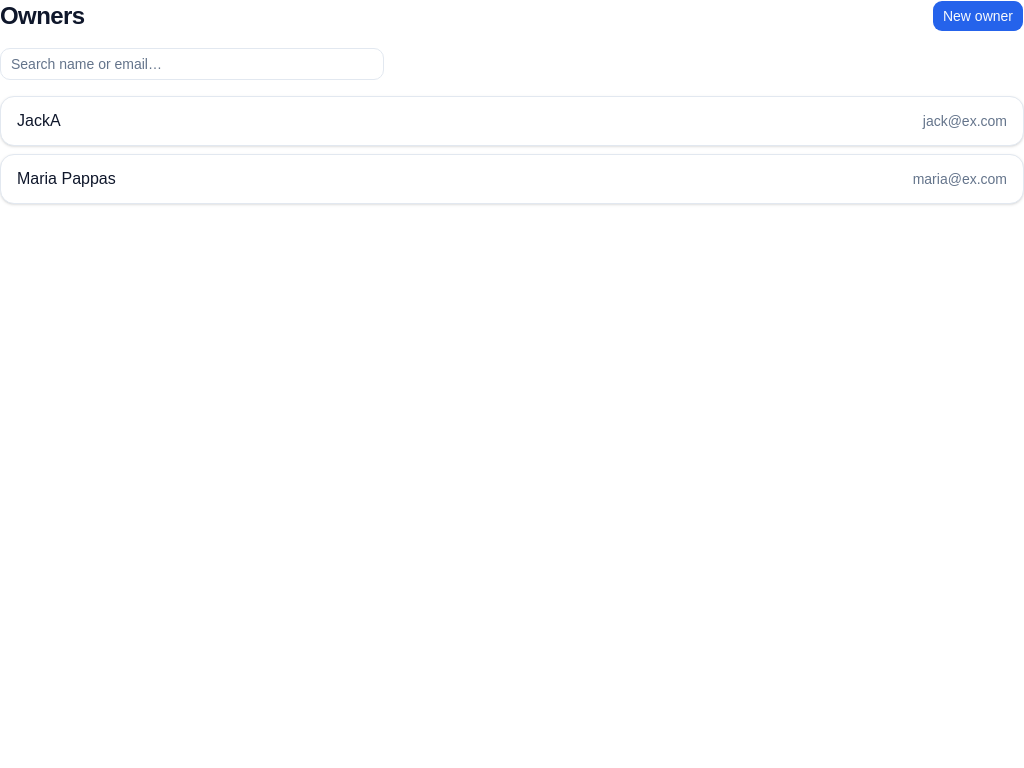
Test: New owner create shows the 409 inline
This screenshot has width=1024, height=768.
Click the button "New owner" at x=978, y=16, box [932,0,1023,32]
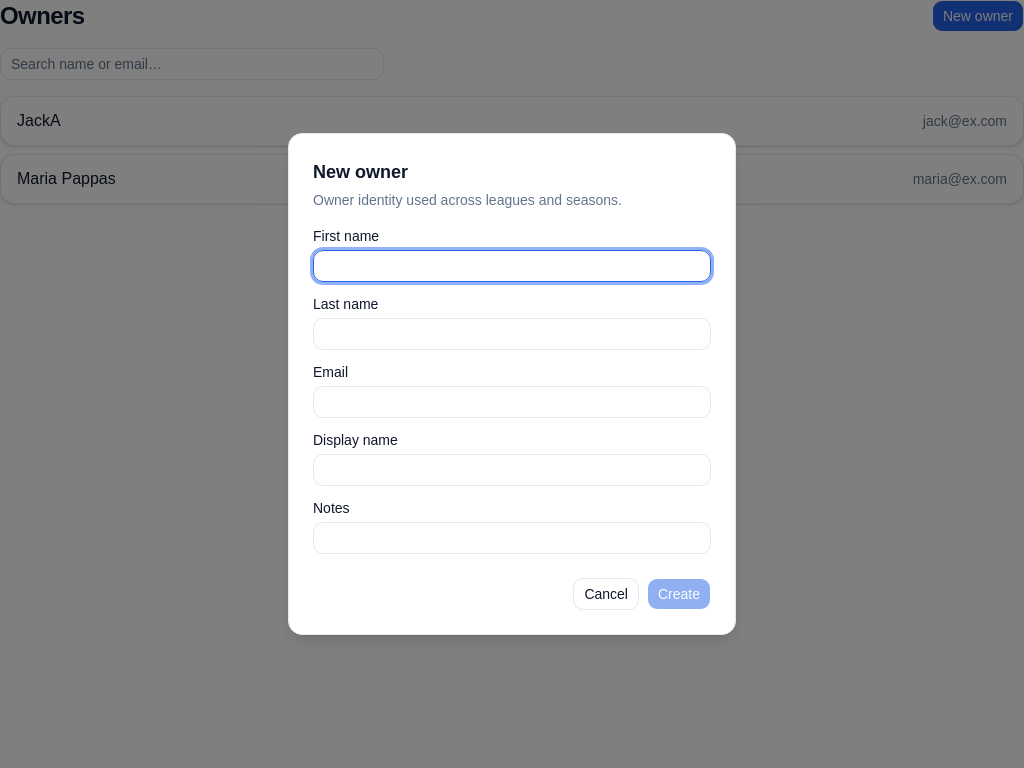
Type "Dupe" into the field labelled "First name" at x=512, y=266, box [313,250,711,282]
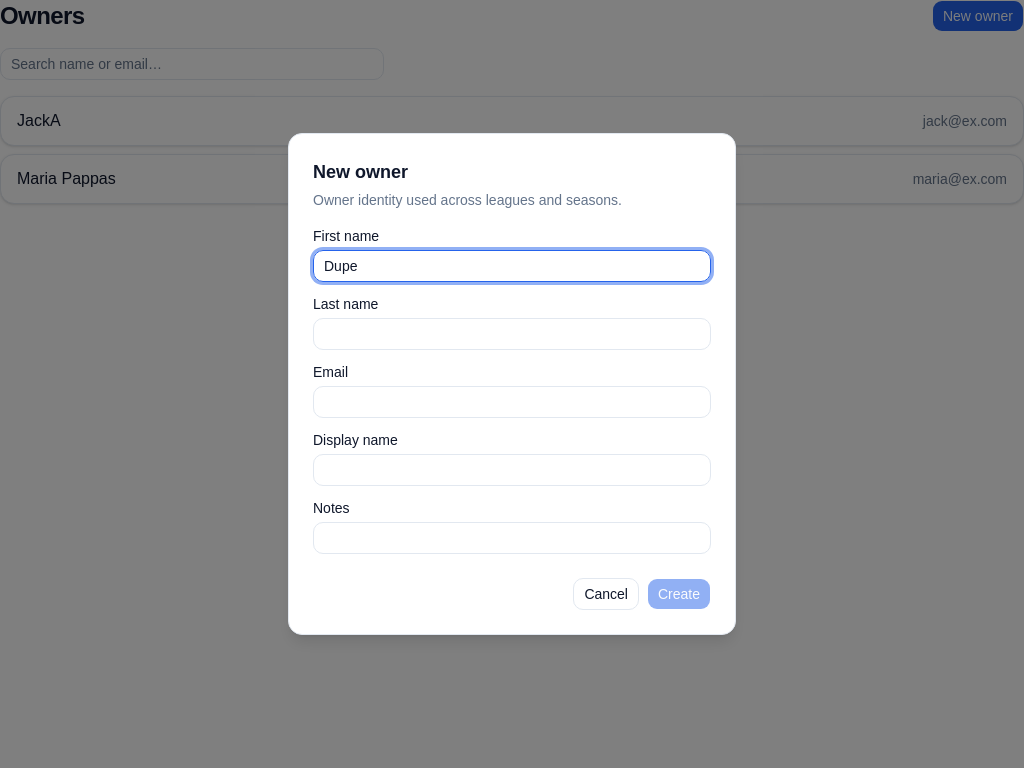
Type "Person" into the field labelled "Last name" at x=512, y=334, box [313,318,711,350]
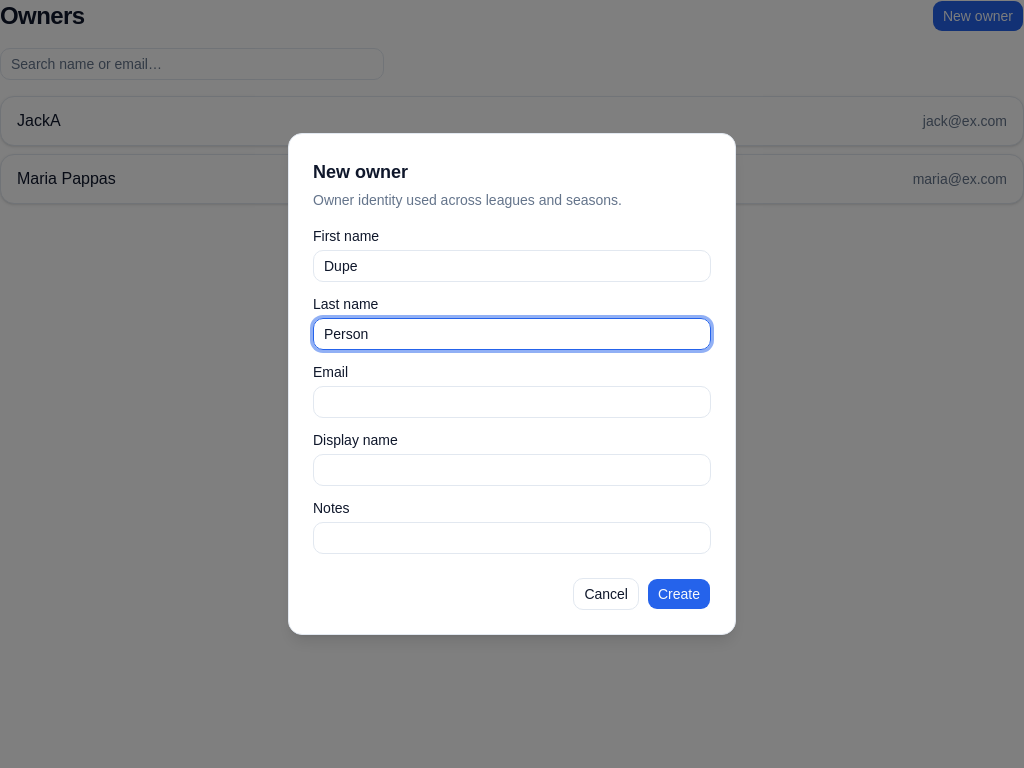
Type "dupe@ex.com" into the field labelled "Email" at x=512, y=402, box [313,386,711,418]
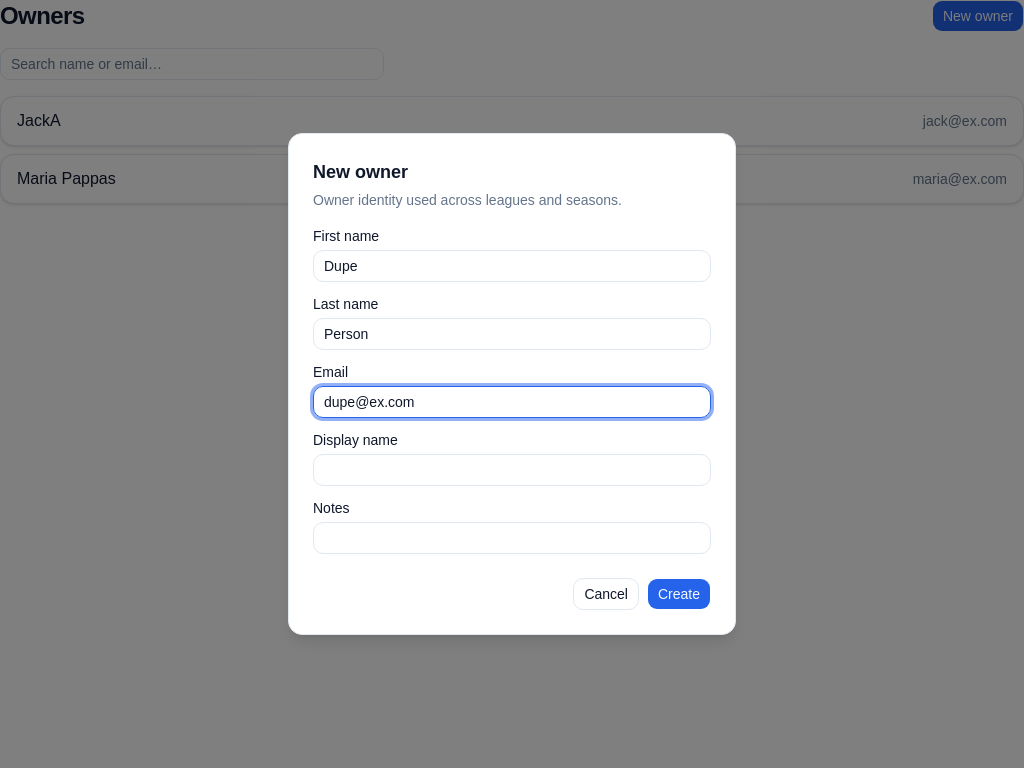
Click the button "Create" at x=679, y=594, box [647,578,711,610]
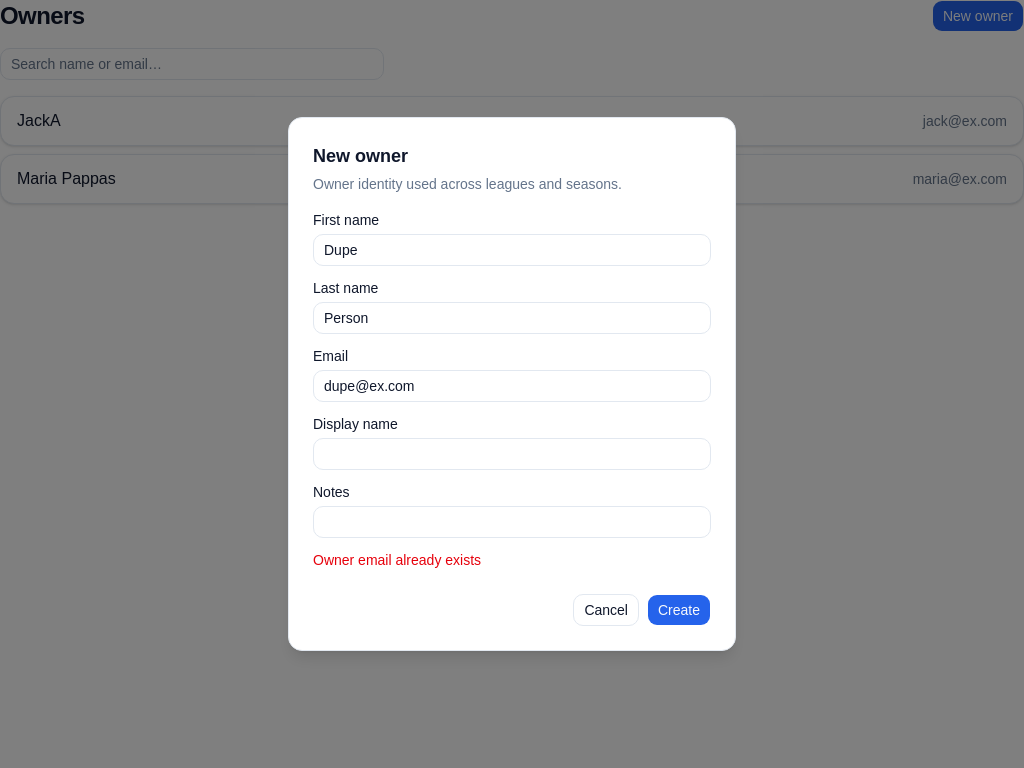
Expected: the text "Owner email already exists" is shown, [313,552,481,568]
